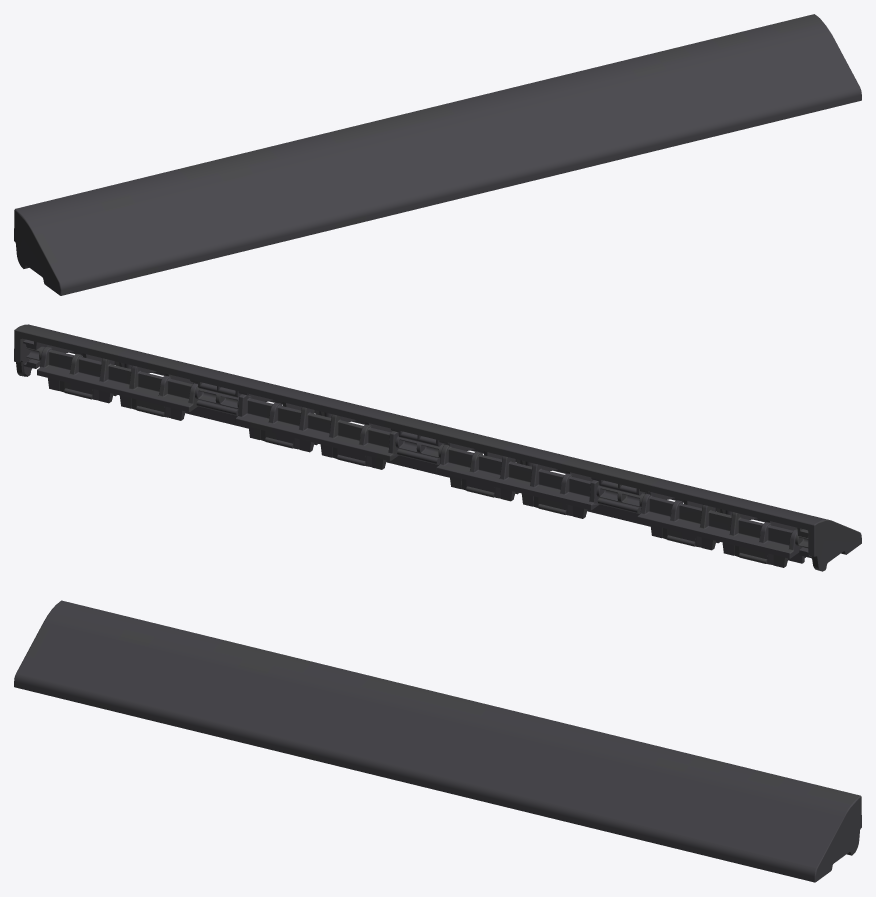
Rendered from runnen_listwa_krawedziowa_p_pod_zewn_50494141.glb.
The picture shows the model from 3 angles, top to bottom: view 1: azimuth 30°, elevation 25°; view 2: azimuth 150°, elevation 25°; view 3: azimuth 330°, elevation 25°; orthographic projection.
Parts seen in each view (by area): view 1: runnen_listwa_krawedziowa_p_pod_zewn_50494141; view 2: runnen_listwa_krawedziowa_p_pod_zewn_50494141; view 3: runnen_listwa_krawedziowa_p_pod_zewn_50494141.
Part boxes in pixels (box(x1,y1,x2,y2)): runnen_listwa_krawedziowa_p_pod_zewn_50494141: box(14, 14, 861, 295); runnen_listwa_krawedziowa_p_pod_zewn_50494141: box(14, 324, 861, 571); runnen_listwa_krawedziowa_p_pod_zewn_50494141: box(14, 600, 861, 882).
Size of the model in its own units: 0.303 by 0.0191 by 0.0317.
1 material, 1 textured.
